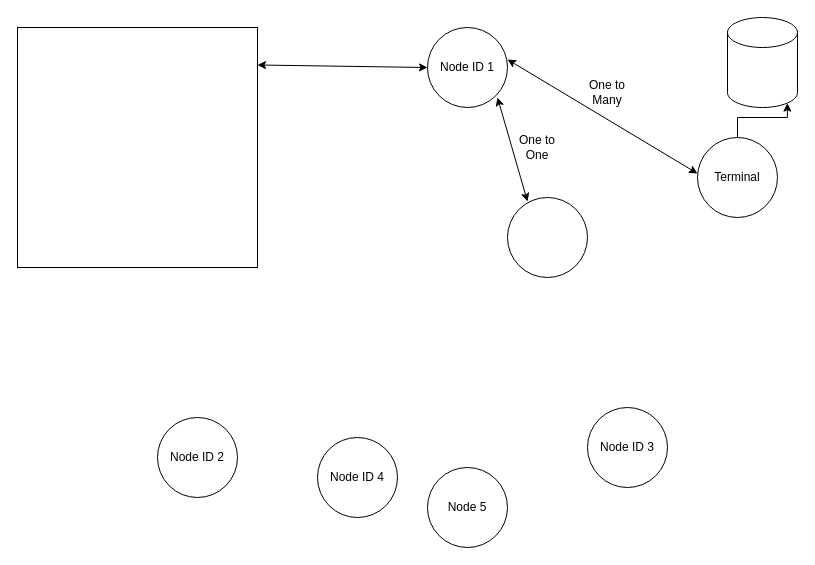
Image size: 815x565. Some labels were removed from this diagram. The shapes that lost their labels are listed below. From the top down, each one's box as (x1, y1, x2, y2) in pixels, then its label:
(726, 16, 798, 108): MySQL
(16, 26, 258, 268): @Before - Pre test case @TestCase @After
(506, 196, 588, 278): Message
